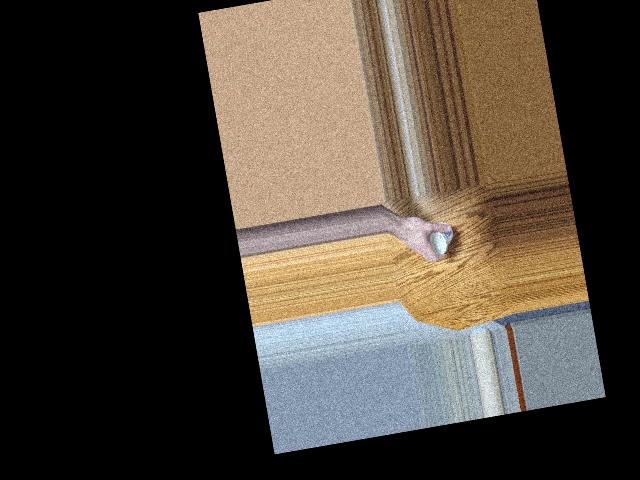cotage: (422, 217, 455, 254)
